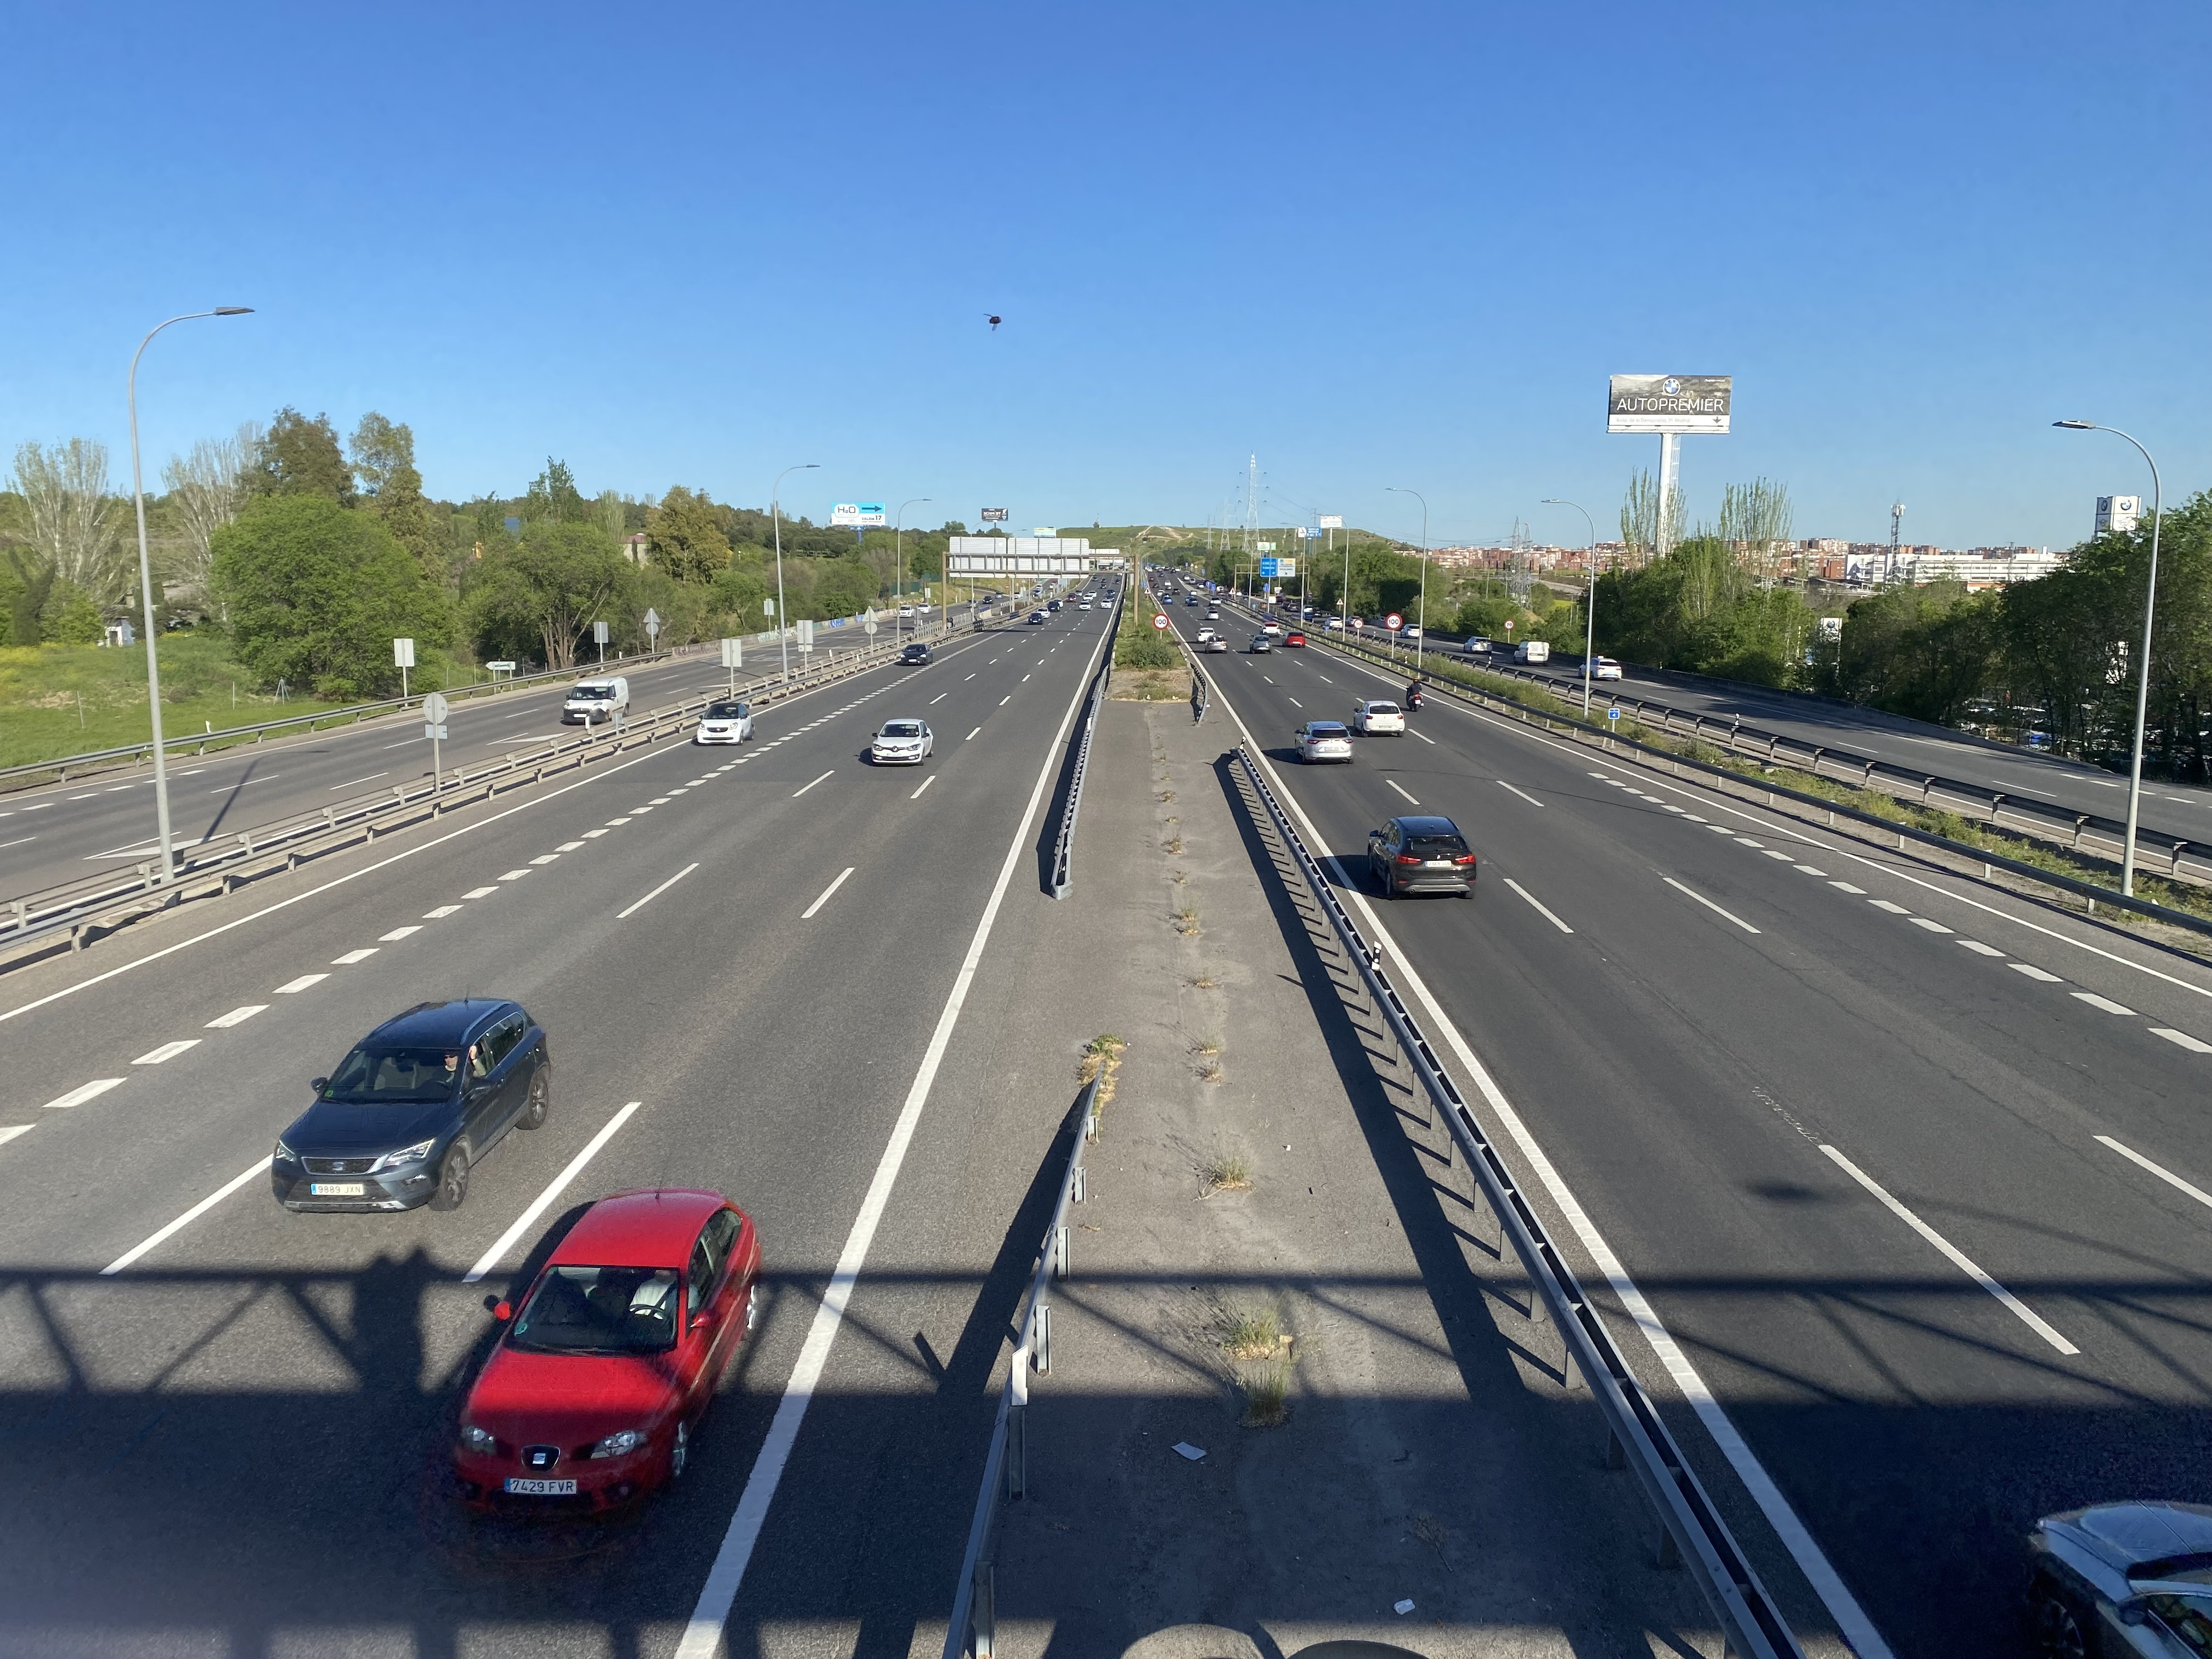cars: (451, 1188, 761, 1509), (272, 999, 550, 1211), (2027, 1502, 2212, 1657), (1367, 816, 1477, 899), (563, 676, 631, 723), (869, 718, 932, 763), (563, 678, 625, 723), (693, 699, 752, 744), (1294, 720, 1352, 762), (1352, 701, 1404, 735), (1514, 640, 1550, 666), (899, 641, 934, 666), (1195, 629, 1226, 653), (1592, 655, 1623, 680), (1463, 636, 1491, 655), (1249, 631, 1271, 653), (1249, 633, 1271, 653), (1284, 631, 1306, 648), (1028, 608, 1049, 626), (1099, 598, 1113, 608)
